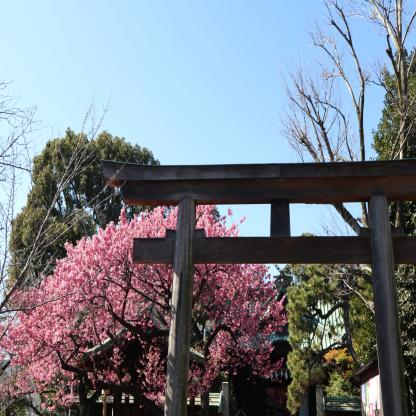KanhiSakura: (106, 200, 287, 416), (1, 207, 136, 416)
